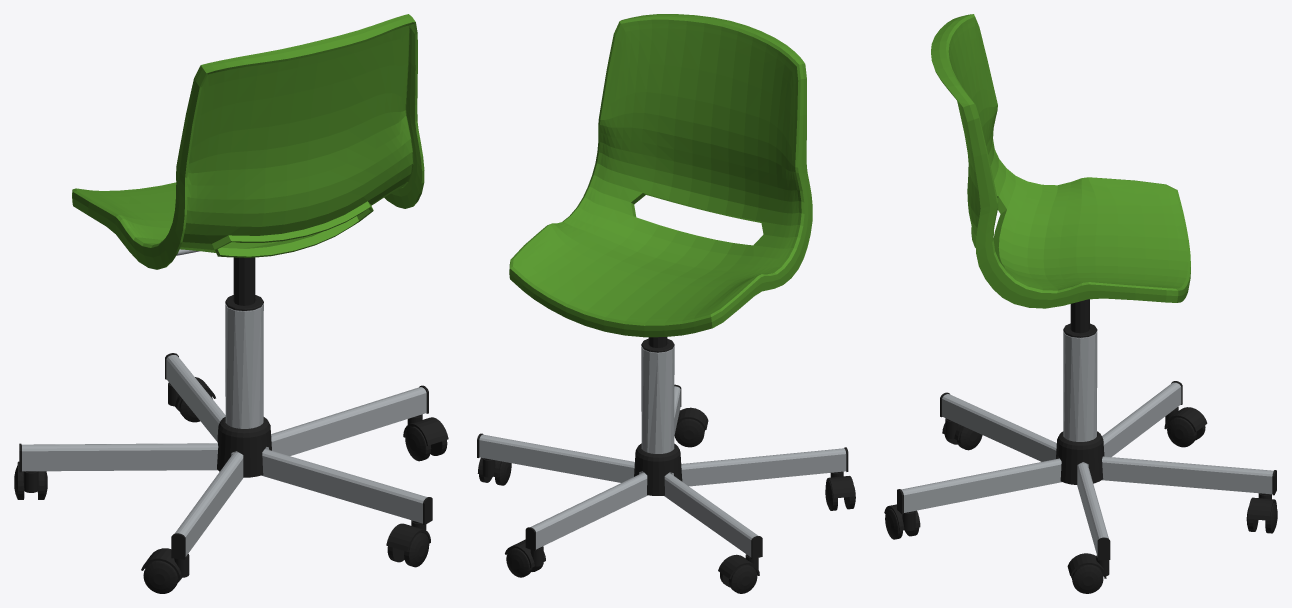
3 renders of one model, left to right at view 1: azimuth 30°, elevation 25°; view 2: azimuth 150°, elevation 25°; view 3: azimuth 270°, elevation 25°, orthographic. The views are drawn at different scales.
Parts seen in each view (by area): view 1: Mesh2 Group2 SNILLE_IKEA1 Model, Mesh8 Group6 SNILLE_IKEA1 Model, Mesh7 Group5 SNILLE_IKEA1 Model, Mesh1 Group1 SNILLE_IKEA1 Model, Mesh3 Group3 SNILLE_IKEA1 Model, Mesh20 ROULETTE4 SNILLE_IKEA1 Model, Mesh15 ROULETTE3 SNILLE_IKEA1 Model, Mesh12 ROULETTE2 SNILLE_IKEA1 Model, Mesh18 ROULETTE4 SNILLE_IKEA1 Model, Mesh16 ROULETTE3 SNILLE_IKEA1 Model, Mesh14 ROULETTE2 SNILLE_IKEA1 Model, Mesh9 ROULETTE1 SNILLE_IKEA1 Model; view 2: Mesh2 Group2 SNILLE_IKEA1 Model, Mesh8 Group6 SNILLE_IKEA1 Model, Mesh7 Group5 SNILLE_IKEA1 Model, Mesh1 Group1 SNILLE_IKEA1 Model, Mesh13 ROULETTE2 SNILLE_IKEA1 Model, Mesh11 ROULETTE1 SNILLE_IKEA1 Model, Mesh18 ROULETTE4 SNILLE_IKEA1 Model, Mesh9 ROULETTE1 SNILLE_IKEA1 Model, Mesh23 ROULETTE5 SNILLE_IKEA1 Model; view 3: Mesh2 Group2 SNILLE_IKEA1 Model, Mesh8 Group6 SNILLE_IKEA1 Model, Mesh7 Group5 SNILLE_IKEA1 Model, Mesh1 Group1 SNILLE_IKEA1 Model, Mesh3 Group3 SNILLE_IKEA1 Model, Mesh17 ROULETTE3 SNILLE_IKEA1 Model, Mesh10 ROULETTE1 SNILLE_IKEA1 Model, Mesh21 ROULETTE5 SNILLE_IKEA1 Model, Mesh9 ROULETTE1 SNILLE_IKEA1 Model, Mesh15 ROULETTE3 SNILLE_IKEA1 Model.
Boxes of the visible parts, bbox=[...] form: Mesh2 Group2 SNILLE_IKEA1 Model: bbox=[72, 14, 424, 269]; Mesh8 Group6 SNILLE_IKEA1 Model: bbox=[19, 353, 432, 559]; Mesh7 Group5 SNILLE_IKEA1 Model: bbox=[225, 303, 263, 428]; Mesh1 Group1 SNILLE_IKEA1 Model: bbox=[217, 417, 271, 477]; Mesh3 Group3 SNILLE_IKEA1 Model: bbox=[225, 257, 263, 310]; Mesh20 ROULETTE4 SNILLE_IKEA1 Model: bbox=[143, 560, 178, 593]; Mesh15 ROULETTE3 SNILLE_IKEA1 Model: bbox=[403, 414, 448, 445]; Mesh12 ROULETTE2 SNILLE_IKEA1 Model: bbox=[386, 520, 430, 551]; Mesh18 ROULETTE4 SNILLE_IKEA1 Model: bbox=[141, 548, 189, 580]; Mesh16 ROULETTE3 SNILLE_IKEA1 Model: bbox=[405, 426, 431, 461]; Mesh14 ROULETTE2 SNILLE_IKEA1 Model: bbox=[404, 532, 429, 567]; Mesh9 ROULETTE1 SNILLE_IKEA1 Model: bbox=[17, 461, 44, 492]; Mesh2 Group2 SNILLE_IKEA1 Model: bbox=[509, 14, 812, 337]; Mesh8 Group6 SNILLE_IKEA1 Model: bbox=[477, 384, 848, 559]; Mesh7 Group5 SNILLE_IKEA1 Model: bbox=[641, 346, 674, 453]; Mesh1 Group1 SNILLE_IKEA1 Model: bbox=[634, 443, 682, 495]; Mesh13 ROULETTE2 SNILLE_IKEA1 Model: bbox=[674, 419, 704, 447]; Mesh11 ROULETTE1 SNILLE_IKEA1 Model: bbox=[728, 564, 757, 593]; Mesh18 ROULETTE4 SNILLE_IKEA1 Model: bbox=[825, 471, 855, 498]; Mesh9 ROULETTE1 SNILLE_IKEA1 Model: bbox=[718, 554, 759, 579]; Mesh23 ROULETTE5 SNILLE_IKEA1 Model: bbox=[506, 548, 532, 577]; Mesh2 Group2 SNILLE_IKEA1 Model: bbox=[931, 14, 1190, 308]; Mesh8 Group6 SNILLE_IKEA1 Model: bbox=[897, 381, 1276, 560]; Mesh7 Group5 SNILLE_IKEA1 Model: bbox=[1063, 331, 1097, 441]; Mesh1 Group1 SNILLE_IKEA1 Model: bbox=[1056, 431, 1104, 484]; Mesh3 Group3 SNILLE_IKEA1 Model: bbox=[1063, 299, 1097, 337]; Mesh17 ROULETTE3 SNILLE_IKEA1 Model: bbox=[1072, 564, 1103, 593]; Mesh10 ROULETTE1 SNILLE_IKEA1 Model: bbox=[1167, 417, 1196, 447]; Mesh21 ROULETTE5 SNILLE_IKEA1 Model: bbox=[1247, 493, 1276, 520]; Mesh9 ROULETTE1 SNILLE_IKEA1 Model: bbox=[1164, 407, 1207, 431]; Mesh15 ROULETTE3 SNILLE_IKEA1 Model: bbox=[1067, 553, 1109, 578].
Bounding box in the file's own units: 0.5794 × 0.7707 × 0.5973.
